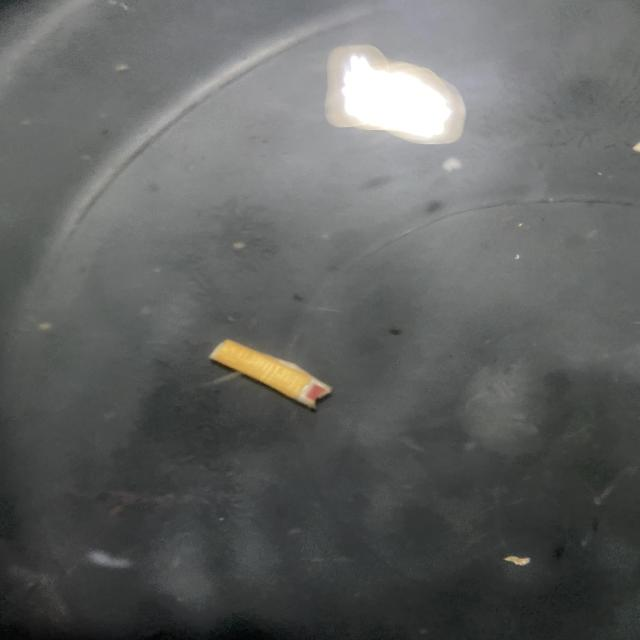Cigarette Filter: (209, 340, 332, 410)
